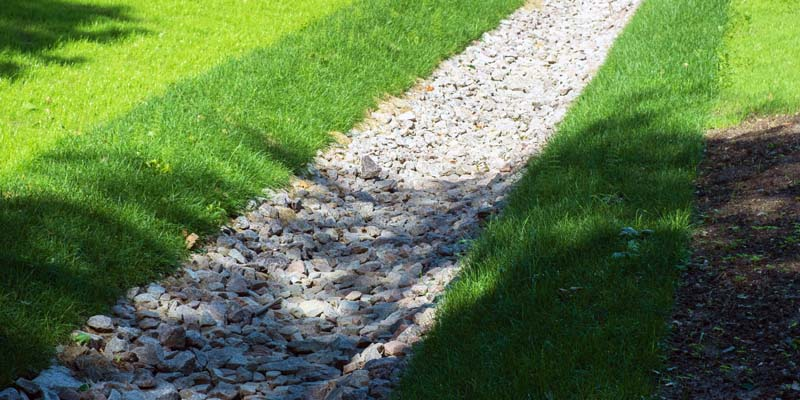dirt: (658, 114, 798, 395)
grass: (1, 5, 518, 346), (434, 4, 799, 399)
rock: (49, 5, 629, 399)
